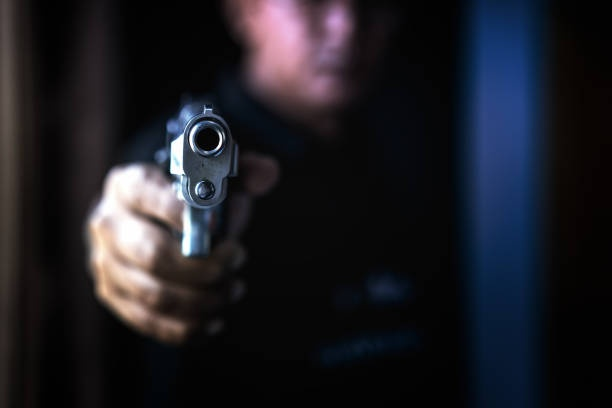gun: (156, 88, 240, 322)
